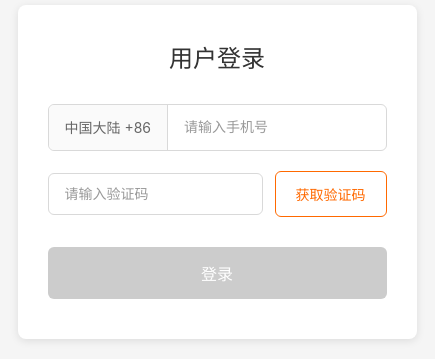
Test: LoginForm Component › 发送验证码后应该开始倒计时
The image size is (435, 359).
Type "13812345678" into the field with test id "phone-input".
click(274, 127); type("13812345678")  # box left=168, top=107, right=381, bottom=147
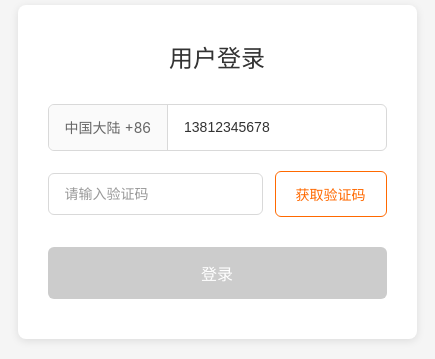
Click the button with test id "send-code-button".
click(330, 194)  # box left=274, top=171, right=386, bottom=217
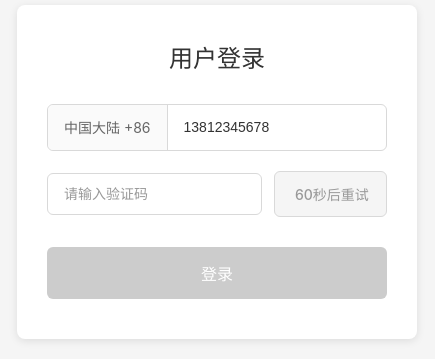
Expected: the button with test id "send-code-button" reads "60秒后重试", left=274, top=171, right=387, bottom=217
Expected: the button with test id "send-code-button" is disabled, left=274, top=171, right=387, bottom=217
